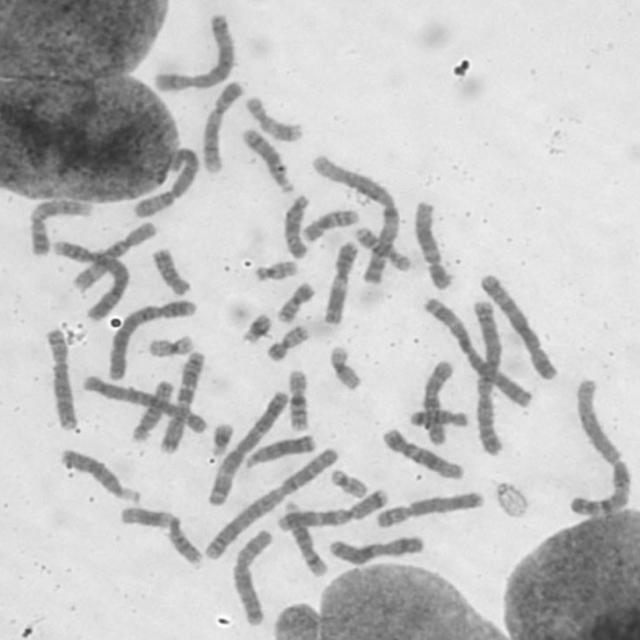A1: (308, 150, 406, 285), (565, 374, 636, 520)
A2: (199, 440, 342, 563), (469, 296, 507, 457)
A3: (418, 293, 536, 408), (203, 386, 290, 507)
B4: (102, 293, 196, 381), (49, 234, 130, 320)
B5: (474, 268, 562, 382), (150, 8, 239, 93)
C10: (69, 218, 160, 294), (418, 354, 456, 447)
C11: (115, 501, 206, 568), (319, 236, 361, 326)
C12: (378, 423, 467, 481), (409, 194, 457, 291)
C6: (77, 370, 210, 436), (129, 142, 202, 220)
C7: (274, 482, 393, 532), (156, 346, 208, 455)
C8: (372, 485, 488, 529), (40, 322, 79, 431)
C9: (199, 76, 247, 174), (24, 194, 96, 257)
D13: (54, 443, 144, 504), (240, 430, 319, 470)
D14: (278, 495, 329, 578), (238, 123, 298, 193)
D15: (128, 376, 176, 443), (279, 189, 313, 261)
E16: (298, 204, 361, 243), (283, 364, 314, 432)
E17: (241, 91, 305, 143), (351, 222, 413, 272)
E18: (148, 242, 194, 296), (405, 404, 471, 429)
F19: (325, 341, 365, 392), (143, 329, 197, 359)
F20: (272, 276, 317, 325), (262, 320, 311, 362)
G21: (237, 308, 274, 345), (206, 417, 236, 458)
G22: (326, 465, 371, 500), (250, 256, 300, 282)
X: (228, 525, 276, 626), (323, 531, 426, 567)
